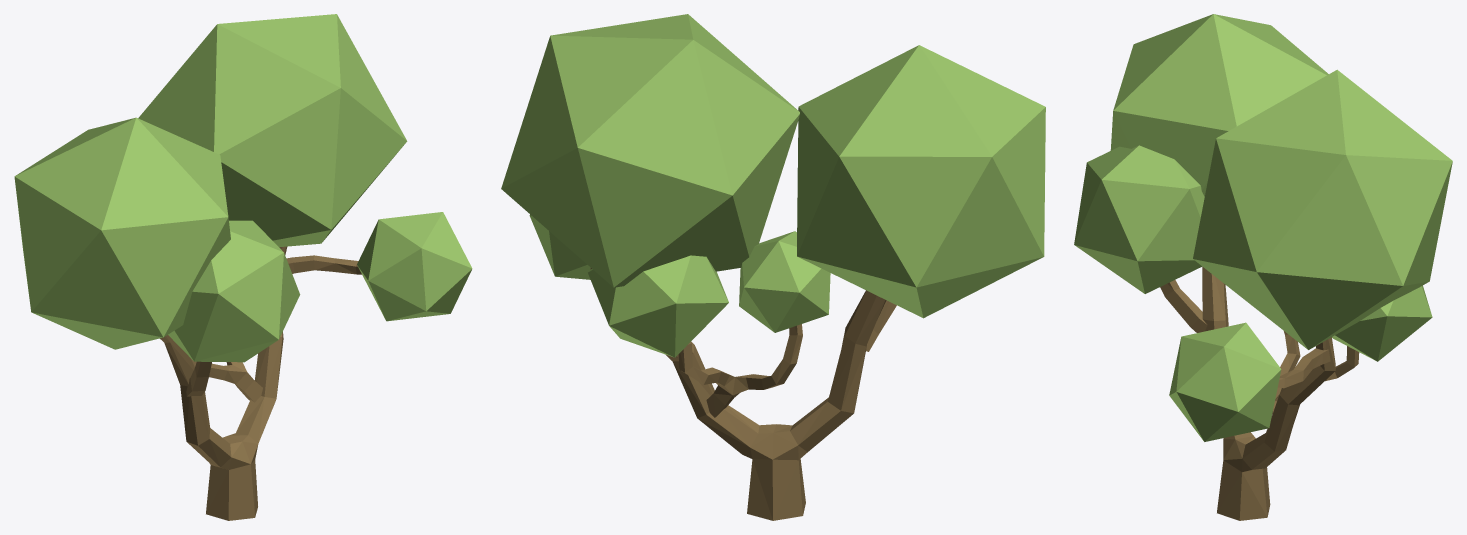
File: Tree1.dae
3 renders of one model, left to right at view 1: azimuth 30°, elevation 25°; view 2: azimuth 150°, elevation 25°; view 3: azimuth 270°, elevation 25°, orthographic. The views are drawn at different scales.
Visible parts, largest first — view 1: Tree_3; view 2: Tree_3; view 3: Tree_3.
Part boxes in pixels (<box>): Tree_3: <box>14,14,472,520</box>; Tree_3: <box>501,14,1045,520</box>; Tree_3: <box>1074,14,1452,520</box>.
Bounding box in the file's own units: 5.5 × 3.97 × 5.27.
